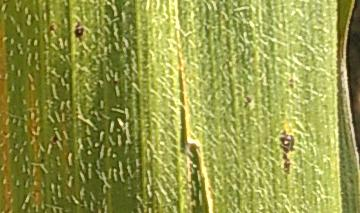tarspot: (276, 129, 296, 175), (72, 16, 84, 40), (47, 23, 56, 32), (51, 133, 58, 144), (39, 157, 44, 163)
